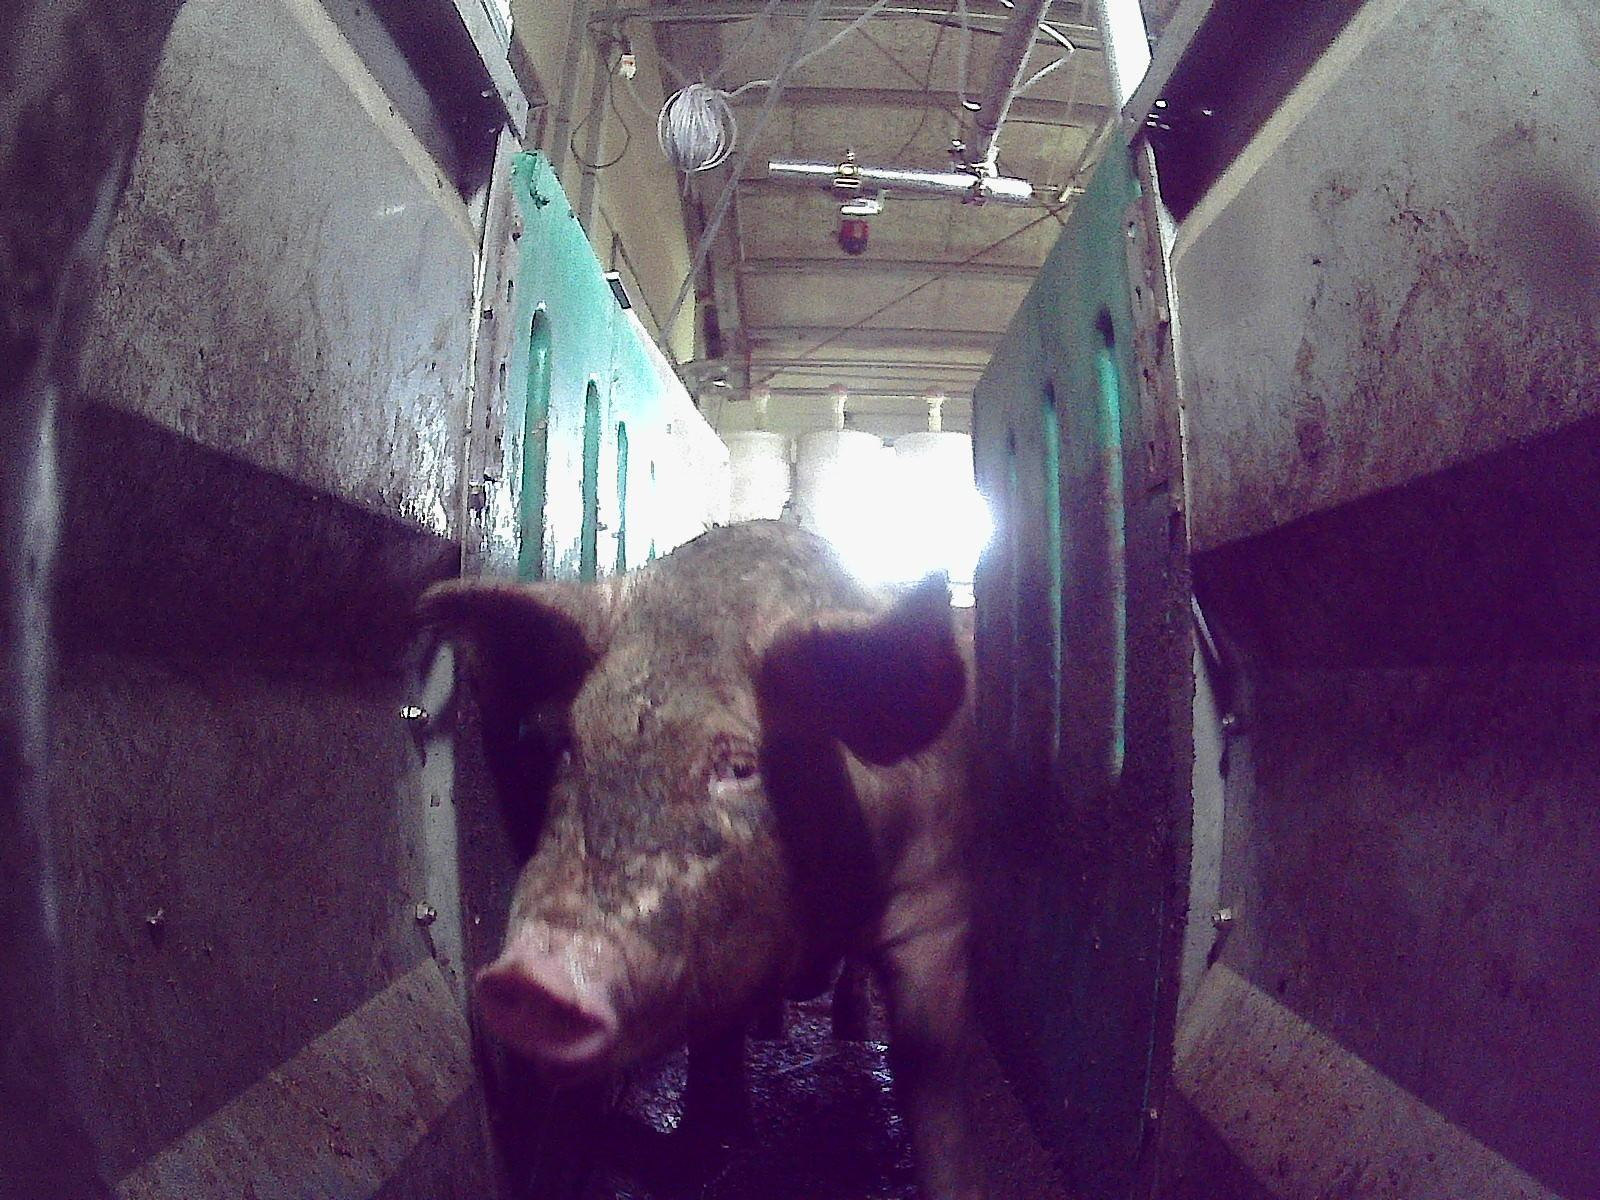Face: (471, 569, 853, 1085)
